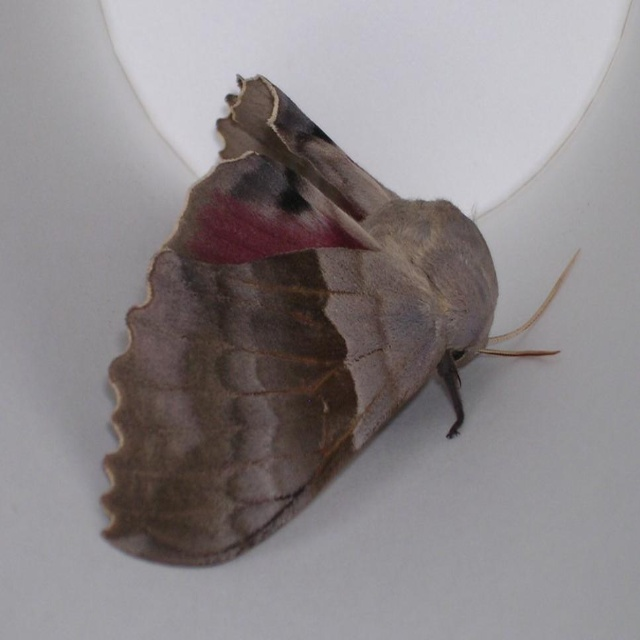Moths and butterflies: (101, 70, 579, 570)
